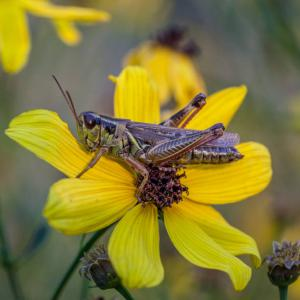locust: (49, 75, 250, 190)
